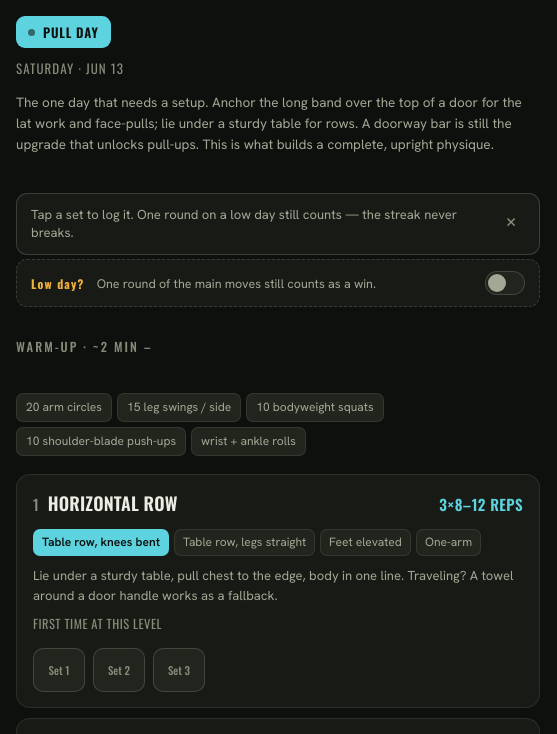
Test: Today — set logging error paths › rolls back the optimistic log and surfaces a retry hint when the save fails
Click the button with aria-label "Set 1, not logged": (59, 670) [33, 648, 85, 692]
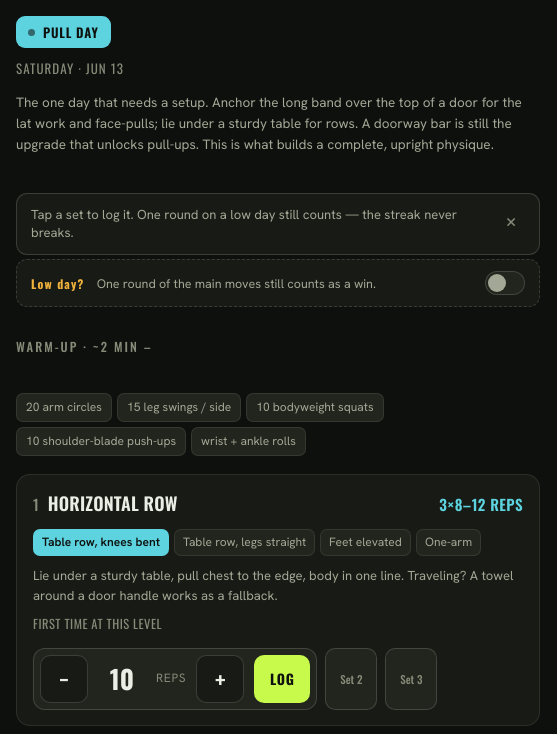
Click the button "Log": (282, 679) [254, 655, 310, 703]
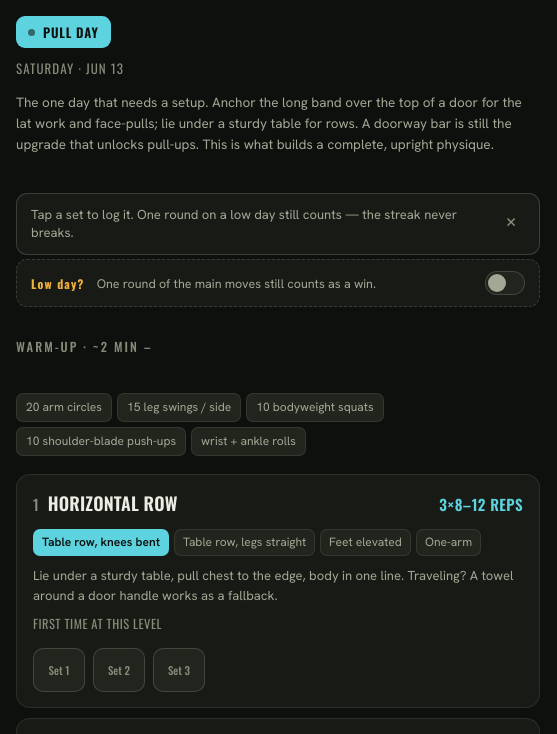
Now the button with aria-label "Set 1, not logged" is shown, box [33, 648, 85, 692]
